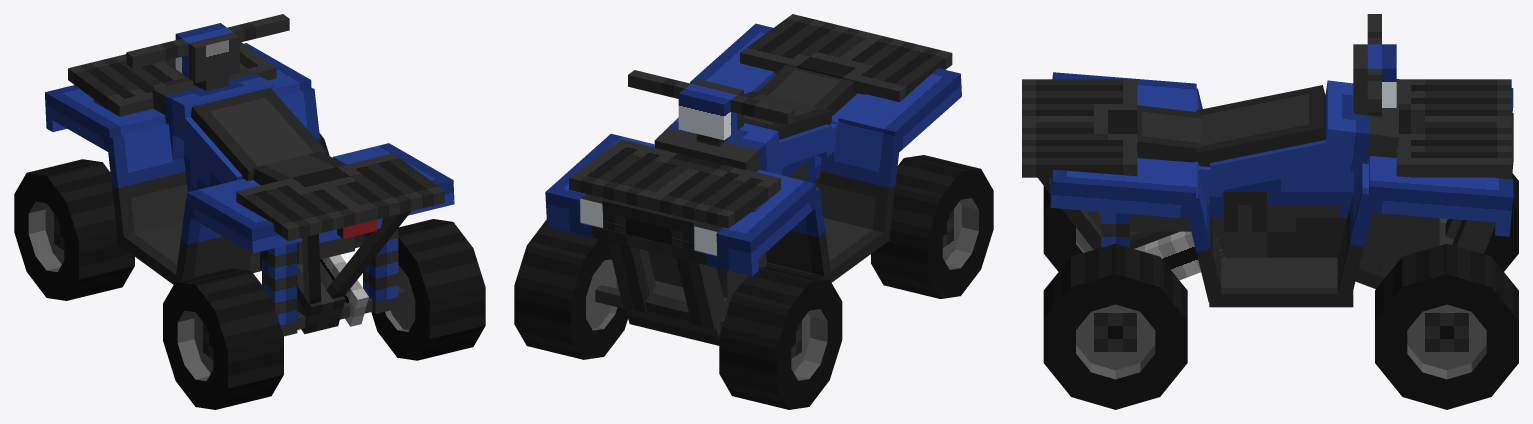
The model's file is drive_grizzly.glb.
The picture shows the model from 3 angles, left to right: view 1: azimuth 30°, elevation 25°; view 2: azimuth 150°, elevation 25°; view 3: azimuth 270°, elevation 25°; orthographic projection. The views are drawn at different scales.
Parts seen in each view (by area): view 1: Object_23, Object_18, Object_9, Object_63, Object_97, Object_39, Object_85, Object_51, Object_77, Object_47, Object_103, Object_107 (+21 smaller); view 2: Object_18, Object_23, Object_85, Object_109, Object_63, Object_47, Object_51, Object_77, Object_107, Object_25, Object_103, Object_75 (+20 smaller); view 3: Object_9, Object_109, Object_85, Object_63, Object_37, Object_39, Object_49, Object_65, Object_73, Object_107, Object_13, Object_7 (+18 smaller).
Boxes of the visible parts, left/top/right/bottom form: Object_23: left=163, top=268, right=283, bottom=409; Object_18: left=14, top=159, right=134, bottom=300; Object_9: left=371, top=219, right=485, bottom=360; Object_63: left=236, top=153, right=444, bottom=240; Object_97: left=106, top=123, right=187, bottom=236; Object_39: left=190, top=88, right=327, bottom=180; Object_85: left=68, top=42, right=276, bottom=116; Object_51: left=187, top=179, right=302, bottom=253; Object_77: left=45, top=85, right=143, bottom=151; Object_47: left=176, top=180, right=255, bottom=280; Object_103: left=175, top=23, right=239, bottom=83; Object_107: left=152, top=67, right=274, bottom=141; Object_18: left=719, top=265, right=842, bottom=409; Object_23: left=871, top=155, right=993, bottom=298; Object_85: left=569, top=139, right=780, bottom=228; Object_109: left=514, top=220, right=627, bottom=359; Object_63: left=740, top=14, right=952, bottom=102; Object_47: left=818, top=120, right=898, bottom=238; Object_51: left=838, top=68, right=961, bottom=154; Object_77: left=716, top=175, right=816, bottom=264; Object_107: left=654, top=117, right=779, bottom=172; Object_25: left=625, top=253, right=766, bottom=345; Object_103: left=678, top=79, right=743, bottom=140; Object_75: left=602, top=165, right=759, bottom=250; Object_9: left=1043, top=243, right=1187, bottom=409; Object_109: left=1375, top=243, right=1518, bottom=409; Object_85: left=1396, top=79, right=1511, bottom=177; Object_63: left=1022, top=79, right=1137, bottom=177; Object_37: left=1209, top=169, right=1353, bottom=257; Object_39: left=1196, top=85, right=1325, bottom=166; Object_49: left=1050, top=158, right=1196, bottom=218; Object_65: left=1209, top=257, right=1353, bottom=307; Object_73: left=1368, top=168, right=1513, bottom=223; Object_107: left=1322, top=80, right=1398, bottom=171; Object_13: left=1407, top=304, right=1486, bottom=370; Object_7: left=1076, top=304, right=1155, bottom=370.
Bounding box in the file's own units: 1.6 × 1.51 × 2.4.
1 material, 1 textured.
